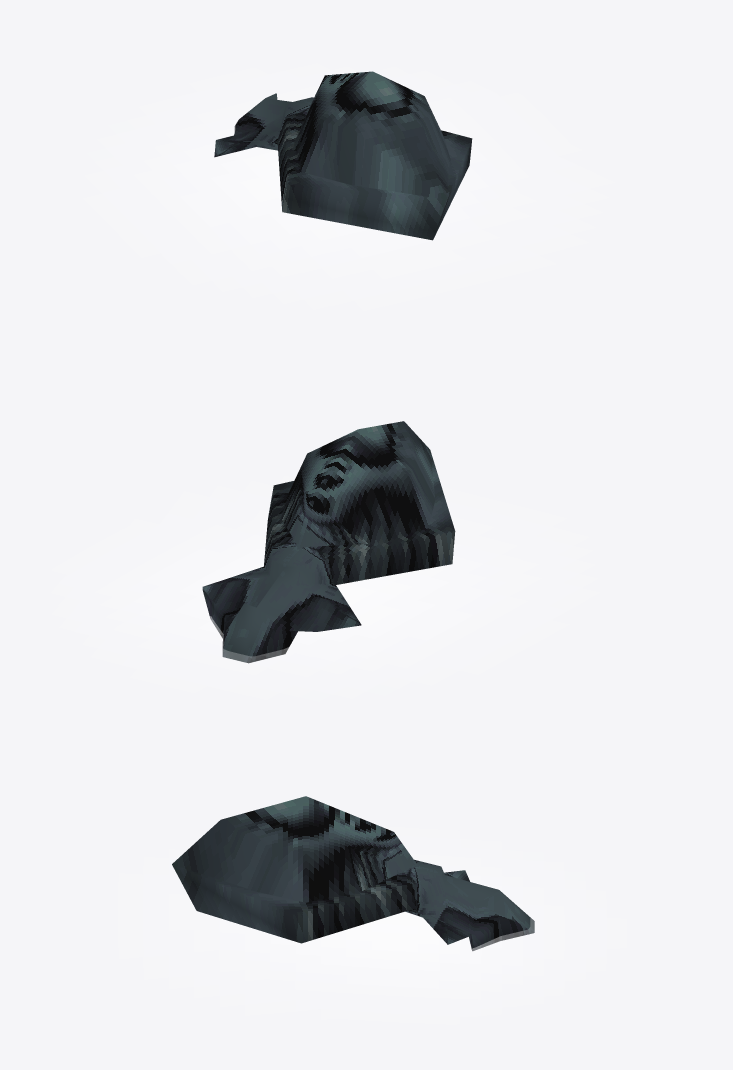
File: ssupplybot_3db.gltf
3 views of the same model, one above another, from view 1: azimuth 30°, elevation 25°; view 2: azimuth 150°, elevation 25°; view 3: azimuth 270°, elevation 25° (orthographic). The views are drawn at different scales.
Parts seen in each view (by area): view 1: ssupplybot.3db; view 2: ssupplybot.3db; view 3: ssupplybot.3db.
Boxes of the visible parts, x1,y1,x2,y2 form: ssupplybot.3db: (134, 71, 536, 278); ssupplybot.3db: (95, 421, 541, 676); ssupplybot.3db: (169, 796, 564, 999).
Bounding box in the file's own units: 7.4 × 1.67 × 8.15.
2 materials, 2 textured.
